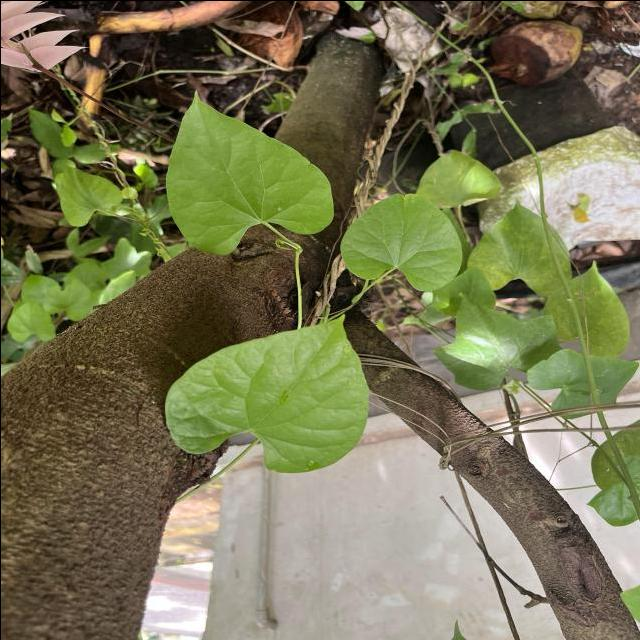Tinospora cordifolia: (160, 309, 370, 474), (162, 86, 336, 257), (337, 190, 463, 292)
